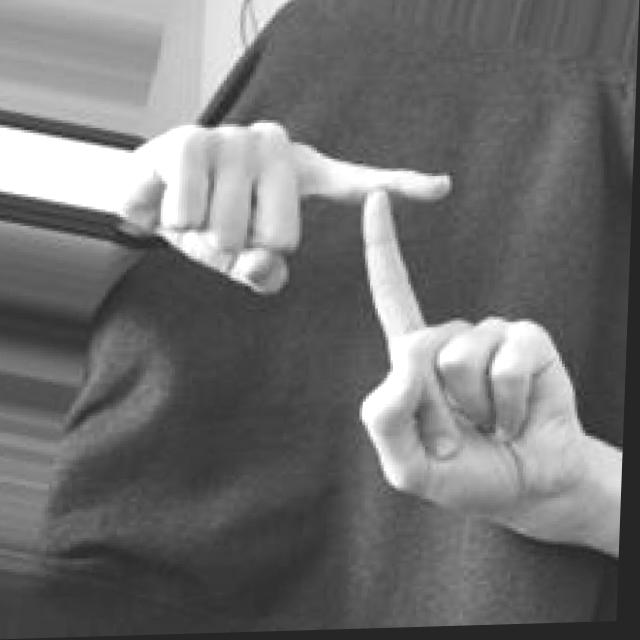T: (107, 95, 636, 572)
